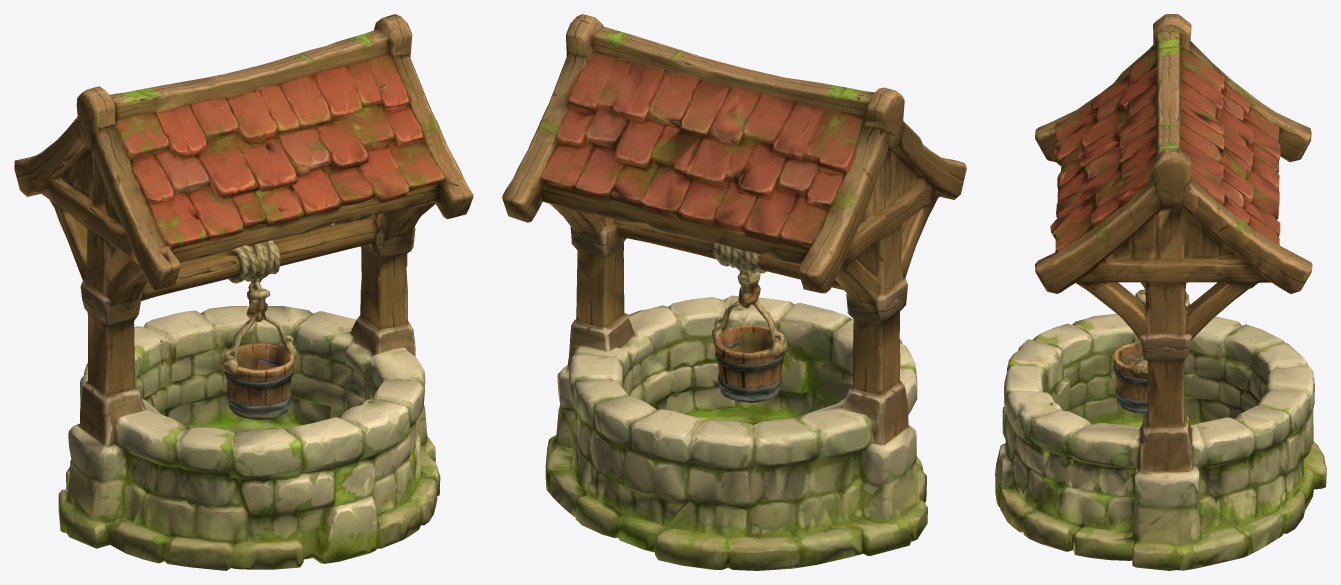
Rendered from well.glb.
The picture shows the model from 3 angles, left to right: view 1: azimuth 30°, elevation 25°; view 2: azimuth 150°, elevation 25°; view 3: azimuth 270°, elevation 25°; orthographic projection. The views are drawn at different scales.
Size of the model in its own units: 1.63 by 1.91 by 1.41.
Materials: 1 (1 with a texture image).
